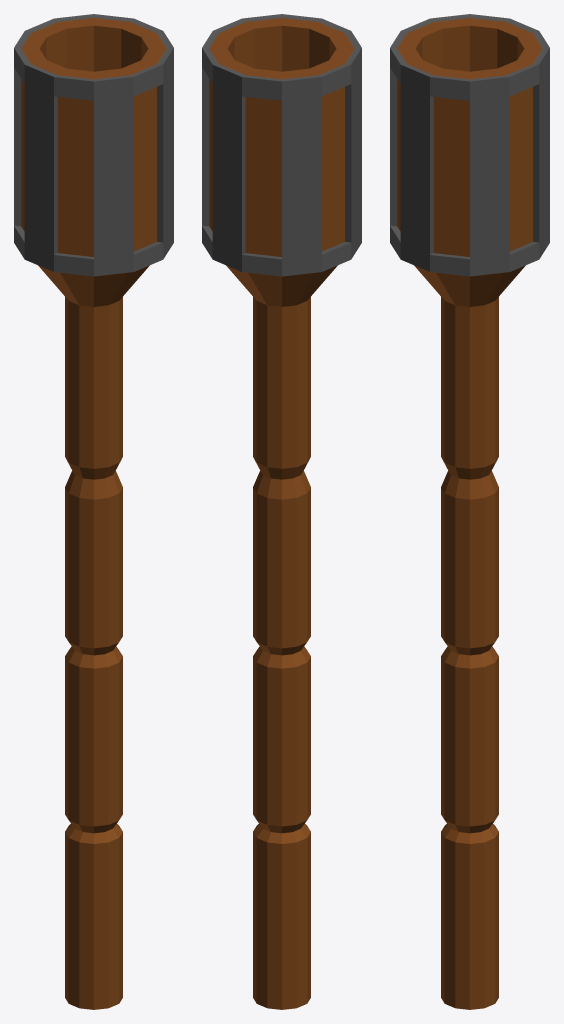
The model's file is Antorcha.fbx.
3 views of the same model, side by side, from view 1: azimuth 30°, elevation 25°; view 2: azimuth 150°, elevation 25°; view 3: azimuth 270°, elevation 25° (orthographic).
Visible parts, largest first — view 1: Cylinder; view 2: Cylinder; view 3: Cylinder.
Part boxes in pixels (left/top/right/bottom): Cylinder: left=14, top=14, right=173, bottom=1009; Cylinder: left=202, top=14, right=361, bottom=1009; Cylinder: left=390, top=14, right=549, bottom=1009.
Size of the model in its own units: 32.66 by 214 by 32.66.
